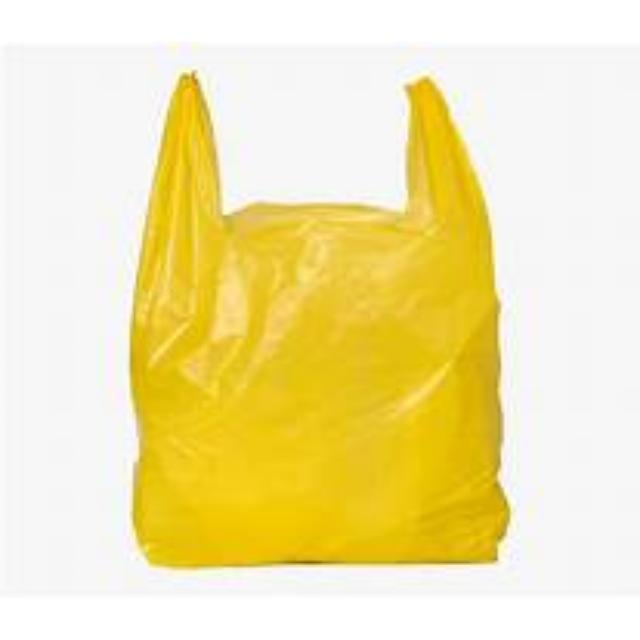Bolsa-de-plastico: (128, 74, 511, 572)
